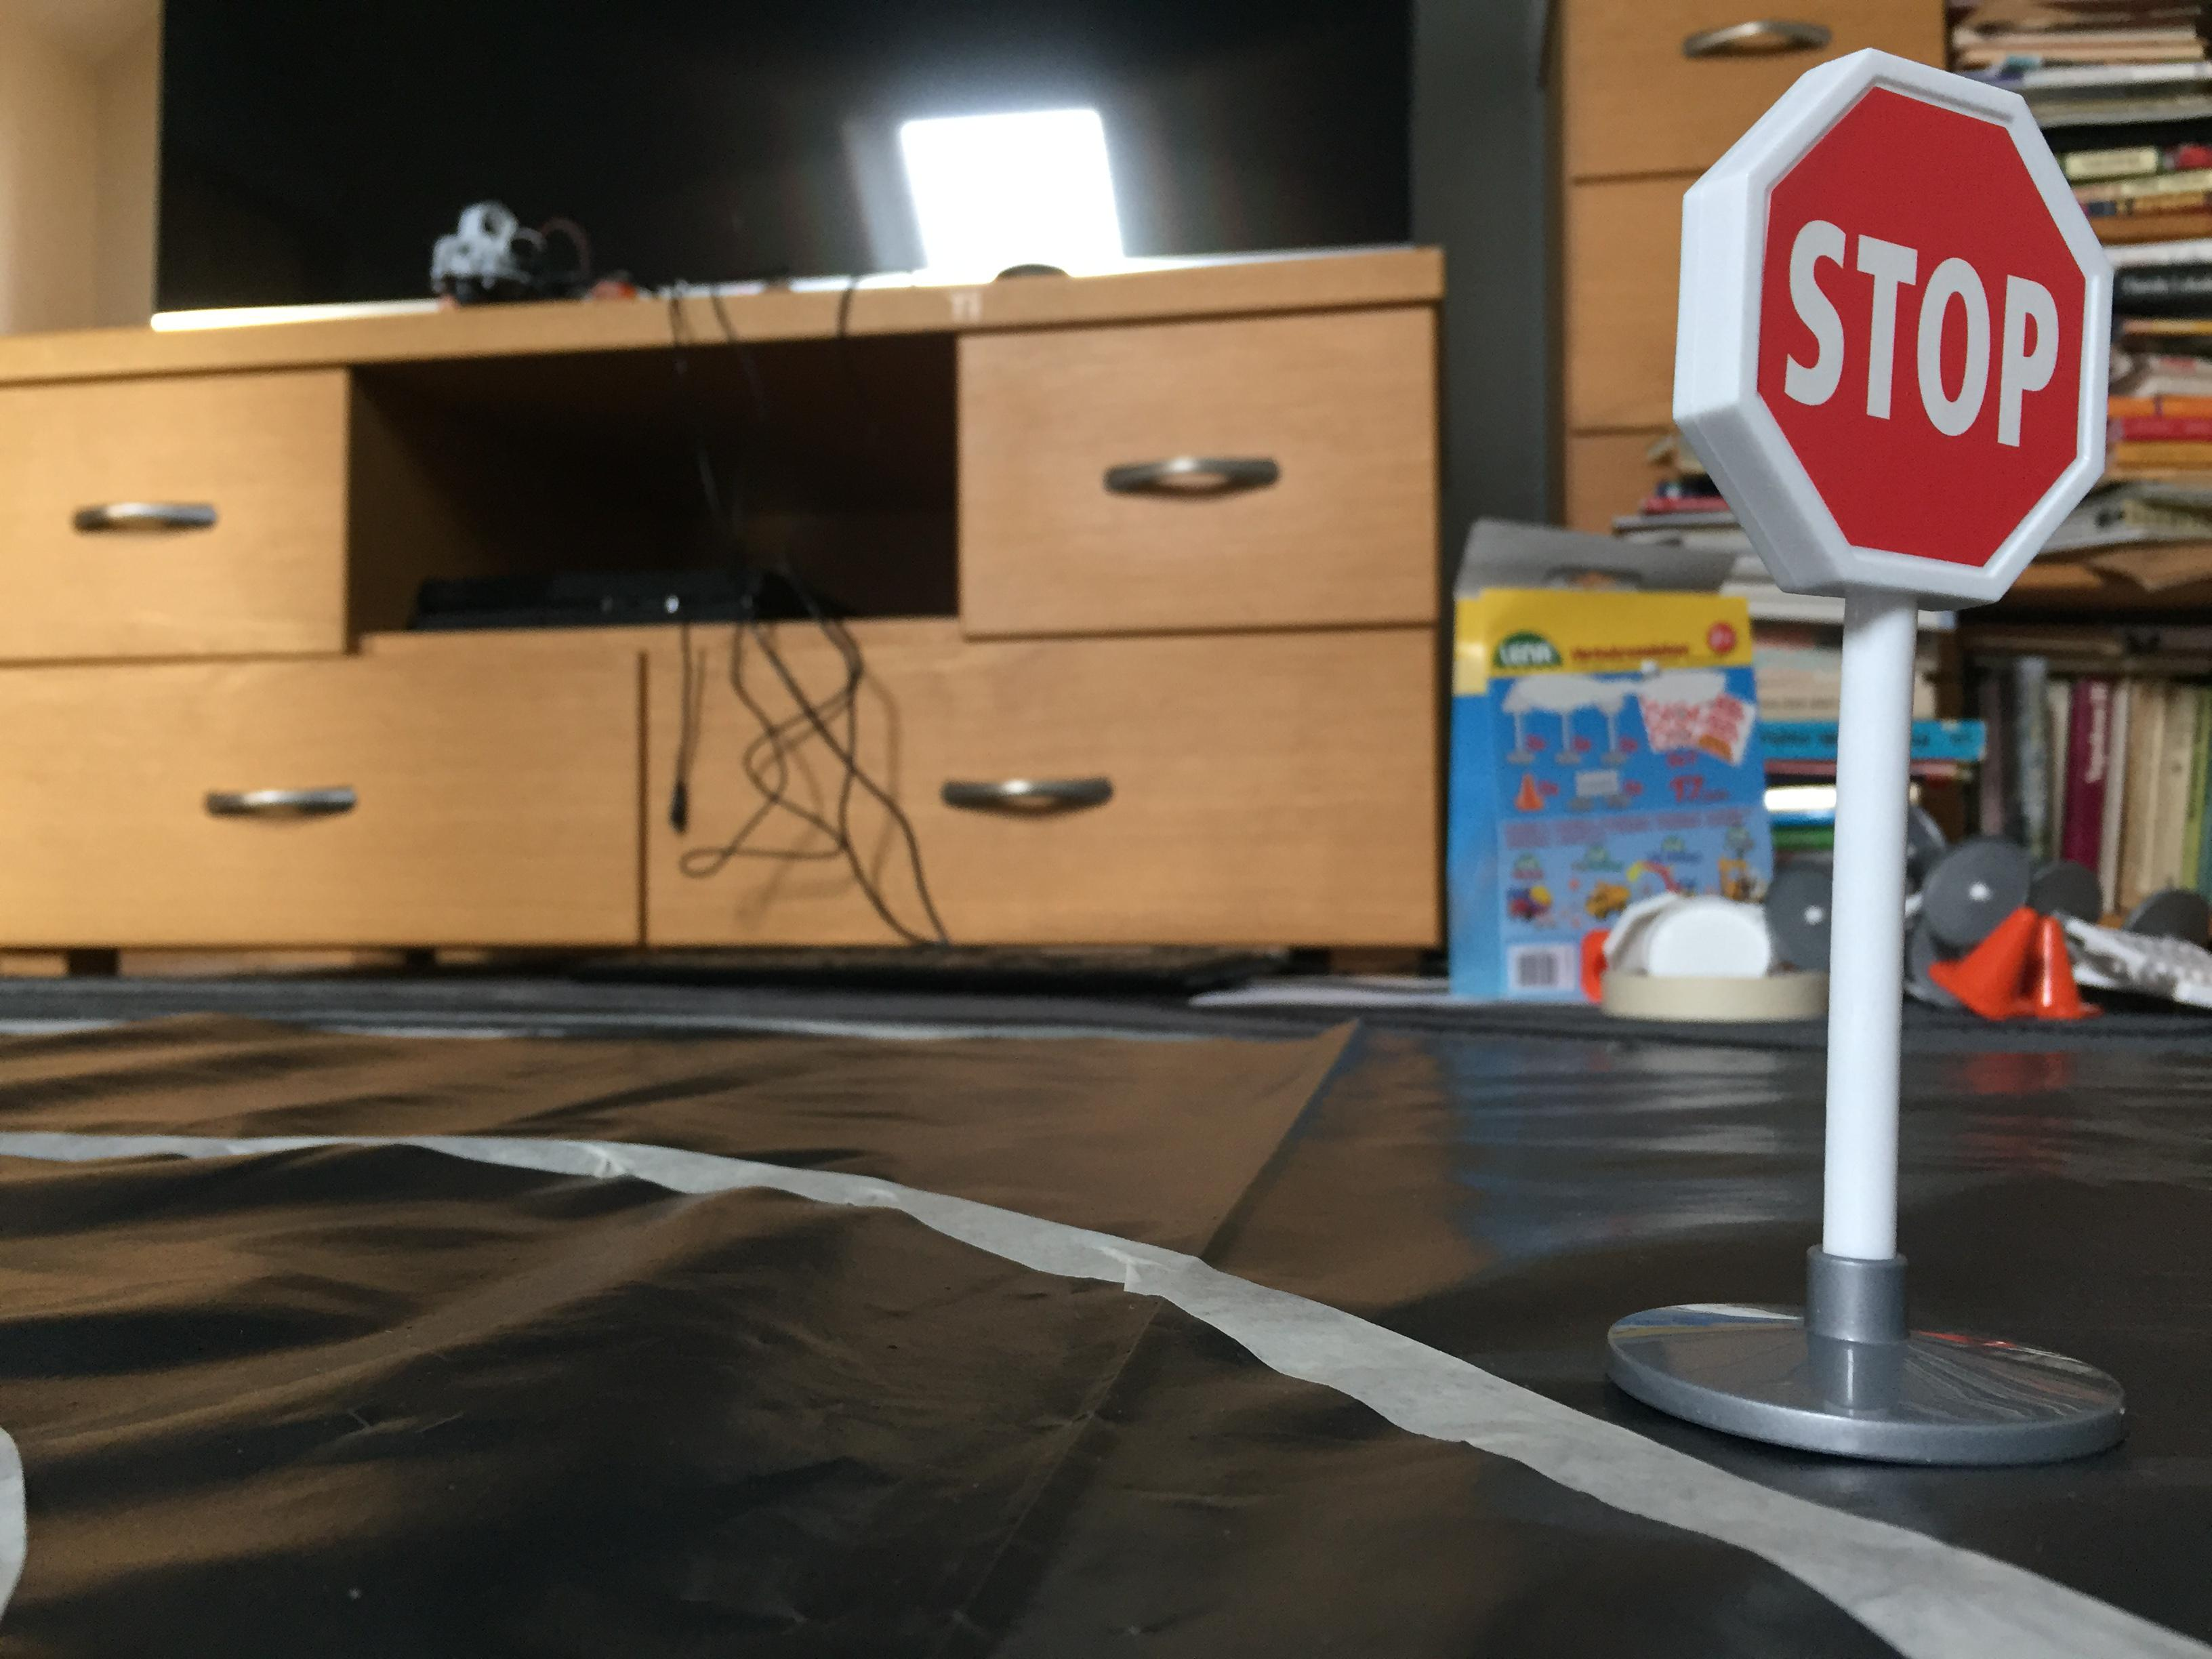stop: (1658, 37, 2125, 624)
